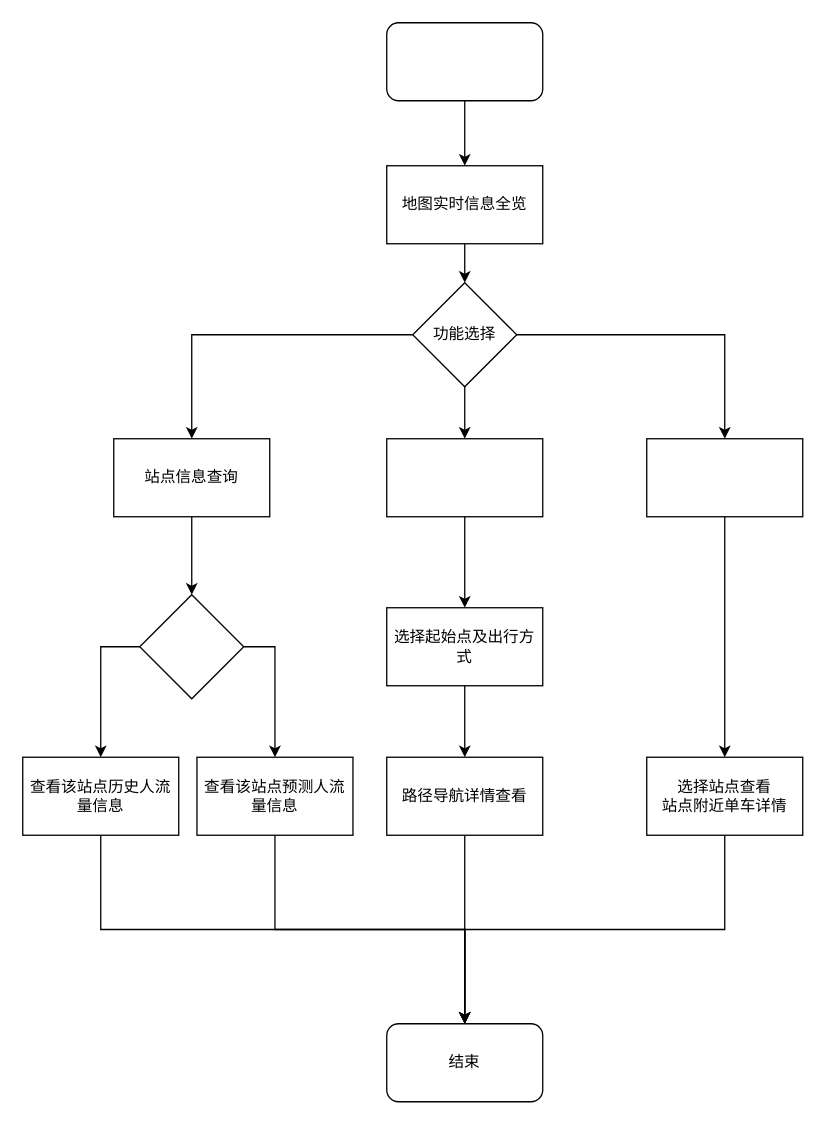
The diagram is 826 pixels wide and 1125 high, and some of its shapes have lost their labels. Each missing label, with the centre of its shape:
单车供需情况查看: point (724, 477)
开始: point (464, 61)
日期选择: point (191, 646)
路径导航: point (464, 477)
